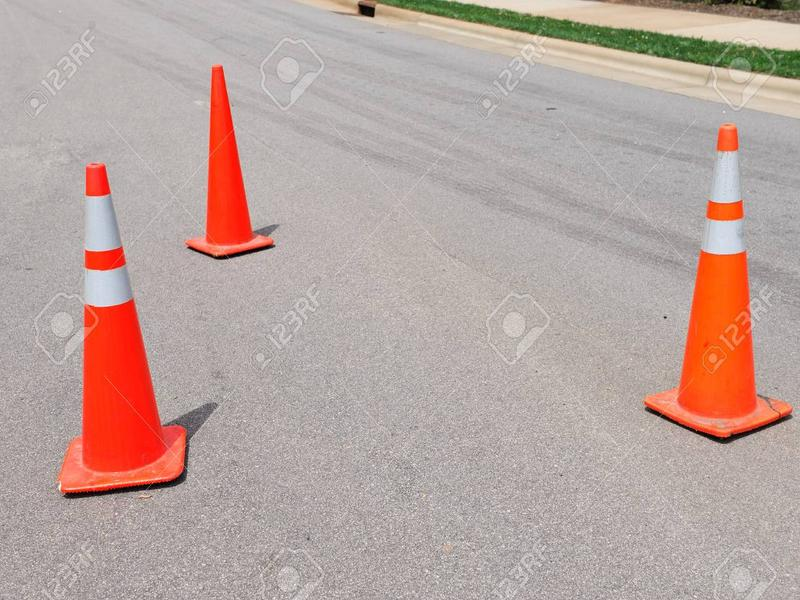Cone: (183, 63, 275, 261)
